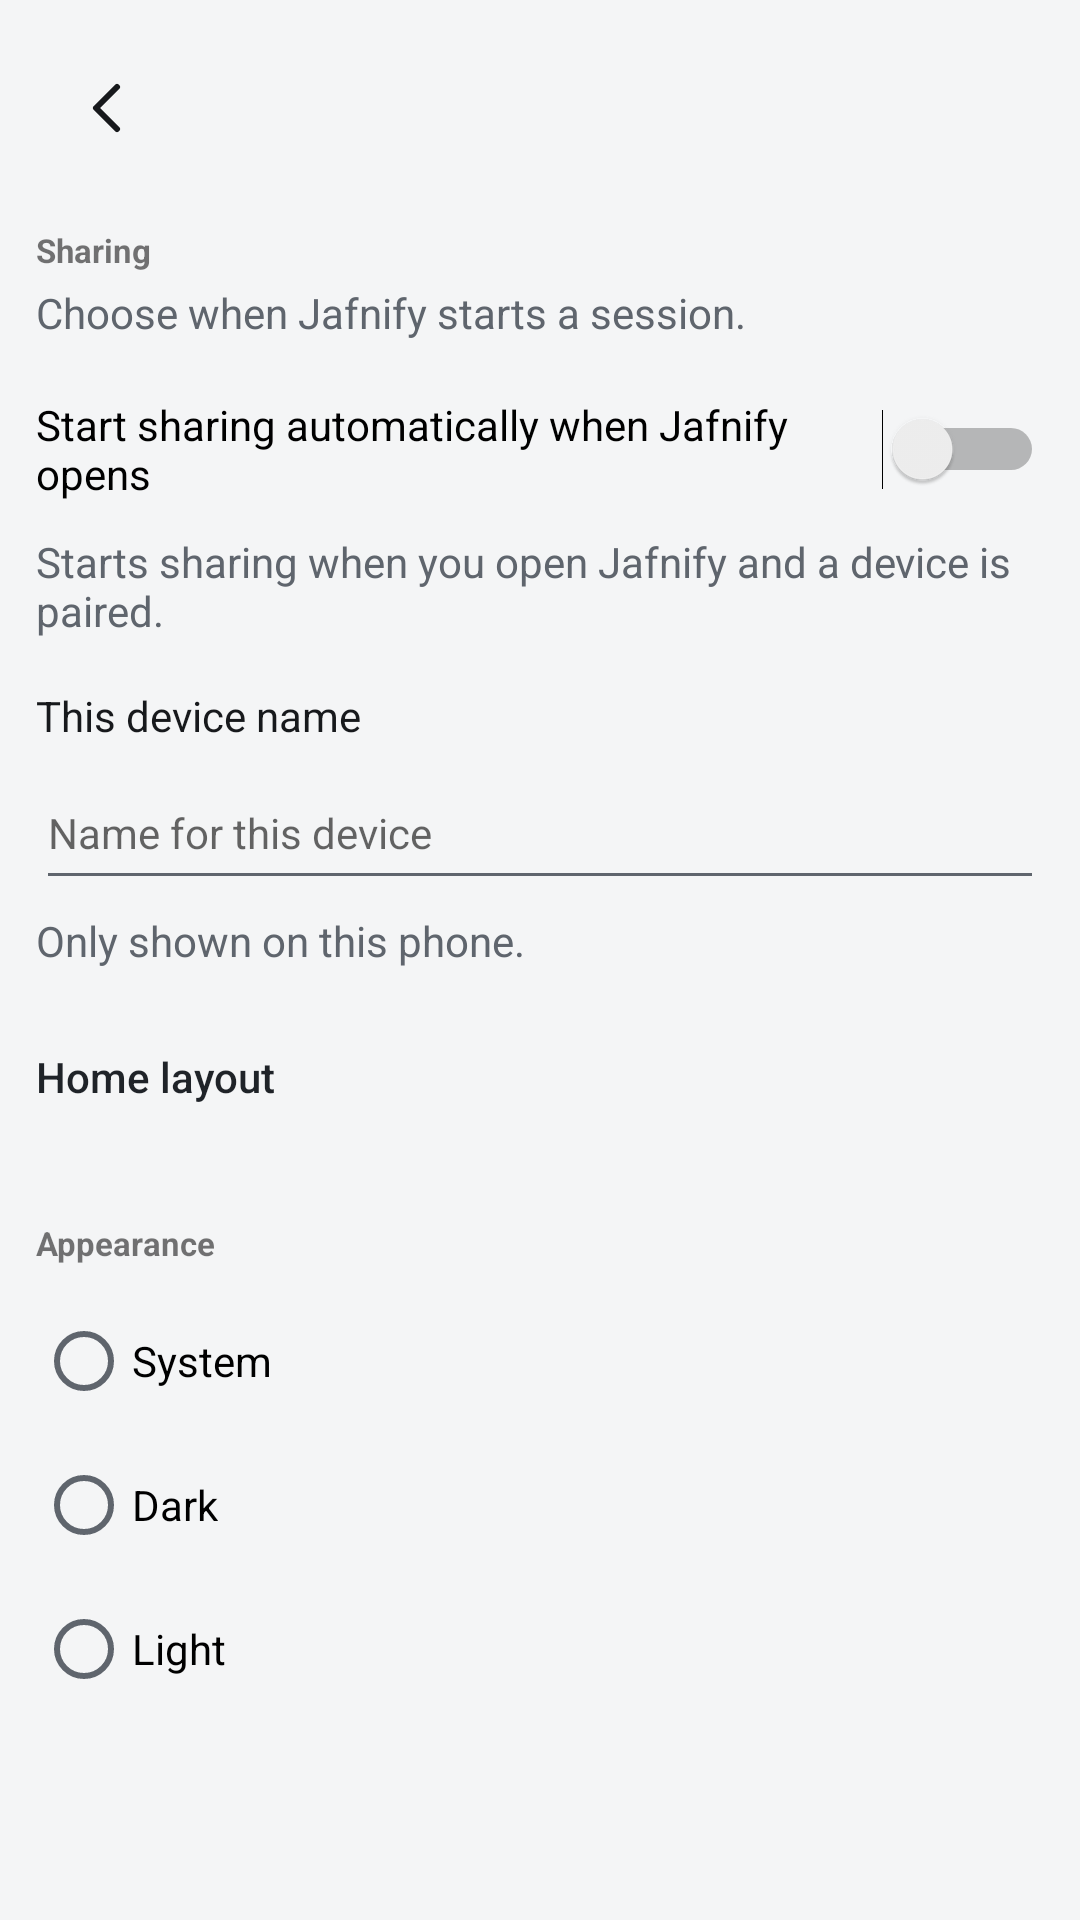

Icon bounding boxes for this 1080px×1920px phone screenshot, format {"x1": x1, "y1": y1, "x2": x2, "y2": y2}:
Back: {"x1": 93, "y1": 84, "x2": 120, "y2": 132}
